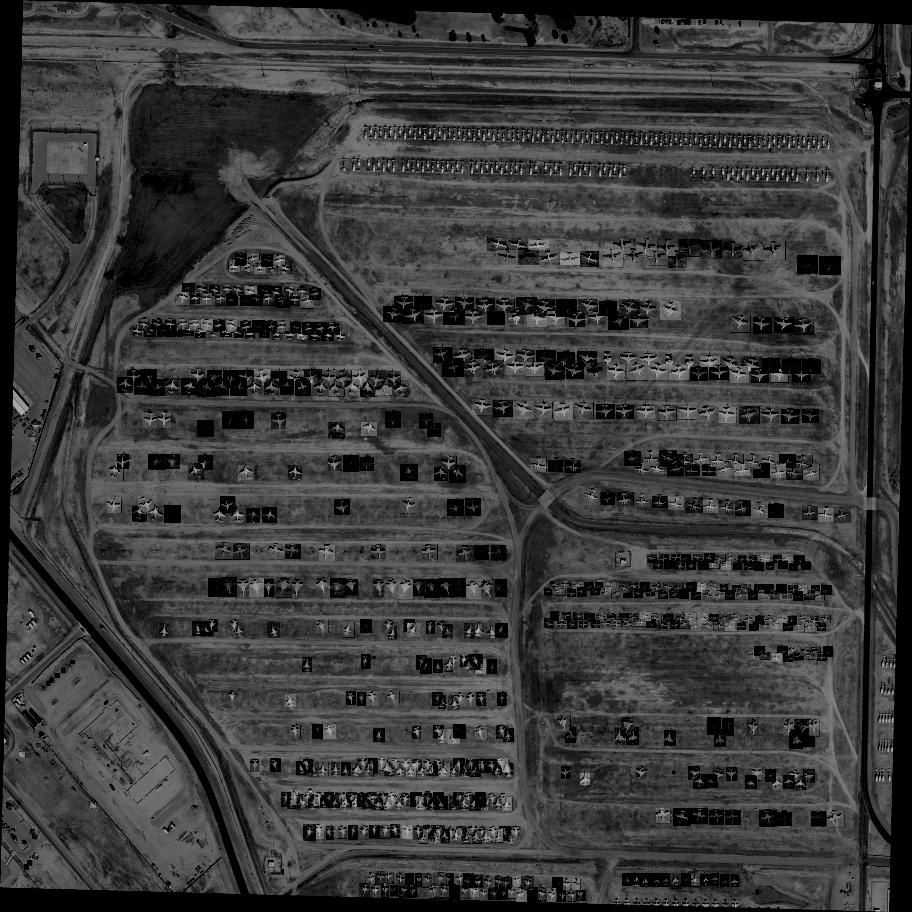plane: (743, 242, 766, 263), (619, 299, 642, 319), (700, 240, 723, 260), (721, 355, 743, 375), (443, 358, 465, 378), (820, 257, 842, 277), (679, 239, 701, 259), (603, 249, 625, 269), (608, 312, 631, 331), (765, 242, 788, 261), (546, 361, 567, 381), (484, 360, 505, 380), (403, 307, 425, 326), (556, 299, 578, 318), (741, 356, 763, 375), (628, 363, 650, 382), (660, 301, 682, 320), (636, 238, 658, 257), (516, 297, 538, 316), (303, 369, 323, 389), (453, 347, 474, 366), (732, 316, 753, 335), (555, 402, 576, 421), (443, 308, 465, 326), (577, 299, 599, 317), (586, 363, 608, 381), (797, 256, 819, 274), (368, 371, 387, 391), (335, 370, 354, 390), (383, 307, 404, 325), (577, 351, 598, 369), (536, 350, 557, 368), (527, 310, 548, 328), (463, 360, 484, 378), (723, 242, 744, 260), (739, 407, 760, 425), (513, 401, 534, 419), (575, 403, 596, 421), (698, 406, 719, 424), (360, 379, 379, 398), (254, 369, 273, 388), (140, 369, 159, 388), (295, 378, 314, 397), (197, 378, 216, 397), (163, 506, 182, 525), (731, 366, 751, 384), (479, 580, 496, 601), (438, 578, 455, 599), (276, 577, 293, 598), (221, 577, 238, 598), (474, 349, 495, 366), (669, 366, 690, 383), (648, 365, 669, 382), (487, 237, 508, 254), (773, 318, 794, 335), (472, 400, 493, 417), (539, 251, 561, 267), (518, 250, 540, 266), (328, 379, 346, 398), (352, 370, 370, 389), (221, 411, 240, 429), (456, 545, 475, 563), (465, 498, 483, 517), (139, 496, 157, 515), (107, 462, 125, 481), (189, 463, 207, 482), (215, 543, 234, 561), (673, 808, 691, 827), (827, 811, 846, 829), (690, 809, 709, 827), (208, 578, 225, 598), (495, 350, 515, 367), (434, 348, 454, 365), (536, 299, 556, 316), (493, 400, 513, 417), (534, 402, 554, 419), (508, 238, 529, 254), (794, 320, 815, 336), (614, 239, 635, 255), (580, 252, 601, 268), (497, 250, 518, 266), (376, 379, 394, 397), (393, 380, 411, 398), (400, 465, 418, 483), (328, 422, 346, 440), (149, 379, 167, 397), (213, 378, 231, 396), (230, 379, 248, 397), (448, 499, 466, 517), (334, 498, 352, 516), (759, 810, 777, 828), (583, 488, 601, 506), (312, 379, 329, 398), (449, 465, 466, 484), (221, 496, 238, 515), (567, 363, 586, 380), (753, 317, 772, 334), (685, 497, 704, 514), (466, 579, 482, 599), (398, 579, 414, 599), (330, 579, 346, 599), (317, 578, 333, 598), (789, 729, 805, 749), (796, 719, 812, 739), (435, 297, 455, 313), (625, 250, 645, 266), (223, 370, 240, 388), (343, 456, 361, 473), (238, 412, 255, 430), (165, 378, 182, 396), (182, 378, 199, 396), (267, 544, 285, 561), (232, 544, 250, 561), (608, 364, 626, 381), (667, 461, 685, 478), (659, 451, 677, 468), (752, 502, 770, 519), (804, 464, 822, 481), (779, 454, 797, 471), (394, 296, 413, 312), (477, 298, 496, 314), (781, 409, 800, 425), (802, 359, 821, 375), (597, 405, 616, 421), (425, 579, 440, 599), (249, 578, 264, 598), (455, 298, 475, 313), (701, 357, 721, 372), (657, 406, 677, 421), (385, 371, 402, 388), (288, 370, 305, 387), (198, 421, 215, 438), (400, 498, 417, 515), (318, 545, 336, 561), (600, 301, 618, 317), (640, 302, 658, 318), (659, 240, 677, 256), (720, 408, 738, 424), (834, 508, 852, 524), (795, 455, 813, 471), (761, 454, 779, 470), (516, 350, 535, 365), (496, 299, 515, 314), (782, 359, 801, 374), (639, 354, 659, 368), (530, 240, 550, 254), (272, 371, 288, 388), (207, 370, 223, 387), (441, 457, 458, 473), (386, 412, 402, 429), (361, 423, 378, 439), (247, 379, 263, 396), (117, 378, 134, 394), (262, 507, 278, 524), (213, 507, 229, 524), (149, 507, 165, 524), (148, 455, 165, 471), (725, 810, 742, 826), (534, 887, 550, 904), (719, 500, 736, 516), (735, 501, 752, 517), (753, 463, 770, 479), (745, 454, 762, 470), (493, 580, 508, 598), (669, 252, 687, 267), (718, 463, 736, 478), (708, 717, 722, 736), (626, 727, 640, 746), (621, 717, 635, 736), (557, 715, 571, 734), (710, 368, 729, 382), (792, 369, 811, 383), (647, 252, 667, 265), (561, 253, 581, 266), (238, 465, 254, 481), (423, 545, 439, 561), (132, 506, 148, 522), (107, 497, 123, 513), (811, 811, 827, 827), (322, 371, 337, 388), (264, 379, 279, 396), (135, 378, 150, 395), (266, 622, 281, 639), (752, 368, 769, 383), (694, 453, 711, 468), (727, 454, 744, 469), (617, 492, 634, 507), (668, 497, 685, 512), (412, 579, 426, 597), (386, 579, 399, 598), (345, 381, 361, 396), (143, 412, 158, 428), (230, 507, 245, 523), (165, 455, 181, 470), (769, 503, 785, 518), (770, 464, 786, 479), (303, 824, 317, 841), (240, 370, 254, 387), (202, 621, 216, 638), (388, 690, 402, 707), (408, 623, 422, 640), (548, 311, 565, 325), (802, 409, 819, 423), (763, 359, 780, 373), (625, 452, 642, 466), (531, 458, 548, 472), (345, 579, 358, 597), (714, 729, 727, 747), (557, 353, 575, 366), (425, 310, 443, 323), (588, 312, 606, 325), (526, 363, 544, 376), (506, 362, 524, 375), (690, 368, 708, 381), (637, 406, 655, 419), (276, 294, 291, 309), (705, 775, 720, 790), (272, 413, 286, 429), (343, 623, 357, 639), (323, 725, 337, 741), (496, 724, 510, 740), (790, 768, 804, 784), (713, 767, 727, 783), (693, 774, 707, 790), (457, 885, 471, 901), (466, 311, 482, 325), (569, 313, 585, 327), (631, 314, 647, 328), (677, 453, 693, 467), (650, 462, 666, 476), (617, 405, 633, 419), (802, 507, 818, 521), (819, 508, 835, 522), (787, 466, 803, 480), (470, 654, 483, 671), (496, 623, 509, 640), (664, 730, 677, 747), (620, 354, 637, 367), (762, 410, 779, 423), (487, 311, 504, 324), (565, 460, 582, 473), (454, 579, 466, 597), (237, 579, 249, 597), (723, 718, 735, 736), (288, 465, 302, 480), (127, 370, 141, 385), (170, 324, 184, 339), (198, 455, 212, 470), (316, 619, 330, 634), (312, 725, 326, 740), (285, 544, 300, 558), (777, 812, 792, 826), (505, 886, 519, 901), (424, 825, 437, 841), (504, 830, 517, 846), (454, 758, 467, 774), (395, 762, 408, 778), (367, 758, 380, 774), (486, 792, 499, 808), (389, 792, 402, 808), (454, 792, 467, 808), (351, 762, 364, 778), (475, 658, 488, 674), (382, 619, 395, 635), (296, 761, 309, 777), (448, 729, 461, 745), (475, 725, 488, 741), (521, 876, 534, 892), (415, 297, 431, 310), (772, 369, 788, 382), (634, 462, 650, 475), (429, 828, 441, 845), (373, 794, 385, 811), (803, 731, 815, 748), (680, 407, 697, 419), (373, 579, 384, 597), (748, 719, 759, 737), (360, 457, 374, 471), (270, 286, 284, 300), (245, 286, 259, 300), (182, 284, 196, 298), (314, 322, 328, 336), (302, 322, 316, 336), (252, 321, 266, 335), (176, 293, 190, 307), (328, 457, 342, 471), (492, 546, 506, 560), (433, 825, 446, 840), (497, 759, 510, 774), (432, 759, 445, 774), (383, 763, 396, 778), (411, 793, 424, 808), (464, 793, 477, 808), (192, 369, 205, 384), (420, 413, 433, 428), (229, 619, 242, 634), (371, 546, 386, 559), (709, 811, 724, 824), (803, 768, 816, 783), (688, 767, 701, 782), (526, 888, 539, 903), (448, 886, 461, 901), (434, 873, 447, 888), (635, 494, 650, 507), (652, 496, 667, 509), (297, 794, 309, 810), (499, 826, 511, 842), (476, 759, 488, 775), (476, 792, 488, 808), (159, 412, 171, 428), (421, 658, 433, 674), (309, 761, 321, 777), (809, 721, 821, 737), (670, 873, 682, 889), (711, 455, 727, 467), (157, 324, 170, 338), (281, 380, 294, 394), (435, 467, 448, 481), (427, 423, 441, 436), (301, 295, 314, 309), (195, 284, 208, 298), (254, 260, 267, 274), (261, 253, 274, 267), (139, 318, 152, 332), (226, 320, 240, 333), (213, 320, 227, 333), (201, 320, 215, 333), (246, 509, 260, 522), (657, 809, 670, 823), (516, 888, 529, 902), (437, 886, 450, 900), (601, 492, 615, 505), (456, 827, 468, 842), (390, 825, 402, 840), (358, 826, 370, 841), (292, 792, 304, 807), (488, 827, 500, 842), (422, 759, 434, 774), (362, 763, 374, 778), (346, 792, 358, 807), (362, 795, 374, 810), (470, 796, 482, 811), (486, 659, 498, 674), (416, 655, 428, 670), (226, 690, 238, 705), (360, 619, 372, 634), (367, 692, 379, 707), (270, 759, 282, 774), (373, 728, 385, 743), (438, 729, 450, 744), (454, 725, 466, 740), (454, 692, 466, 707), (448, 696, 460, 711), (442, 624, 454, 639), (746, 775, 758, 790), (726, 767, 738, 782), (359, 883, 371, 898), (552, 877, 564, 892), (690, 873, 702, 888), (641, 873, 653, 888), (423, 873, 435, 888), (463, 874, 475, 889), (643, 453, 658, 465), (464, 623, 475, 639), (565, 727, 576, 743), (547, 888, 558, 904), (292, 580, 302, 597), (615, 728, 625, 745), (280, 261, 293, 274), (274, 255, 287, 268), (248, 254, 261, 267), (235, 253, 248, 266), (321, 329, 334, 342), (177, 319, 190, 332), (475, 546, 488, 559), (497, 888, 510, 901), (492, 762, 504, 776), (487, 760, 499, 774), (470, 763, 482, 777), (449, 763, 461, 777), (427, 763, 439, 777), (330, 796, 342, 810), (460, 796, 472, 810), (242, 259, 254, 273), (267, 260, 279, 274), (192, 622, 204, 636), (117, 455, 129, 469), (636, 767, 648, 781), (399, 885, 411, 899), (488, 887, 500, 901), (477, 887, 489, 901), (736, 464, 750, 476), (704, 501, 718, 513), (413, 826, 424, 841), (348, 825, 359, 840), (315, 825, 326, 840), (281, 792, 292, 807), (303, 792, 314, 807), (357, 793, 368, 808), (395, 796, 406, 811), (427, 796, 438, 811), (438, 796, 449, 811), (449, 796, 460, 811), (357, 758, 368, 773), (504, 728, 515, 743), (375, 871, 386, 886), (265, 579, 274, 597), (309, 796, 321, 809), (220, 326, 232, 339), (309, 288, 321, 301), (284, 286, 296, 299), (259, 286, 271, 299), (229, 260, 241, 273), (145, 325, 157, 338), (271, 328, 283, 341), (309, 329, 321, 342), (189, 320, 202, 332), (697, 613, 710, 625), (685, 613, 698, 625), (686, 464, 699, 476), (503, 797, 514, 811), (439, 764, 450, 778), (401, 760, 412, 774), (433, 793, 444, 807), (465, 659, 476, 673), (291, 726, 302, 740), (433, 725, 444, 739), (433, 692, 444, 706), (437, 621, 448, 635), (473, 875, 484, 889), (785, 719, 794, 736), (381, 825, 391, 840), (402, 825, 412, 840), (368, 793, 378, 808), (302, 657, 312, 672), (303, 759, 313, 774), (498, 692, 508, 707), (476, 692, 486, 707), (465, 692, 475, 707), (661, 873, 671, 888), (264, 295, 276, 307), (277, 321, 289, 333), (227, 294, 239, 306), (782, 554, 794, 566), (369, 826, 380, 839), (466, 759, 477, 772), (482, 797, 493, 810), (246, 327, 257, 340), (286, 695, 297, 708), (404, 620, 415, 633), (784, 776, 795, 789), (765, 769, 776, 782), (428, 886, 439, 899), (702, 465, 715, 476), (549, 461, 562, 472), (419, 829, 429, 843), (511, 827, 521, 841), (325, 793, 335, 807), (412, 759, 422, 773), (407, 763, 417, 777), (433, 660, 443, 674), (346, 692, 356, 706), (797, 776, 807, 790), (772, 776, 782, 790), (396, 873, 406, 887), (681, 873, 691, 887), (651, 874, 661, 888), (622, 873, 632, 887), (444, 873, 454, 887), (342, 762, 351, 777), (460, 765, 471, 777), (183, 325, 195, 336), (234, 286, 245, 298), (209, 285, 220, 297), (252, 295, 263, 307), (284, 328, 295, 340), (334, 330, 346, 341), (754, 646, 766, 657), (606, 582, 618, 593), (715, 621, 727, 632), (703, 621, 715, 632), (467, 887, 479, 898), (618, 582, 630, 593), (698, 560, 710, 571), (686, 560, 698, 571), (793, 591, 805, 602), (708, 583, 720, 594), (764, 584, 776, 595), (451, 829, 461, 842), (445, 827, 455, 840), (314, 794, 324, 807), (159, 623, 169, 636), (731, 874, 741, 887), (720, 875, 730, 888), (441, 829, 450, 843), (362, 655, 371, 669), (208, 326, 219, 337), (265, 321, 276, 332), (240, 321, 251, 332), (240, 295, 251, 306), (823, 647, 834, 658), (596, 612, 607, 623), (545, 618, 556, 629), (612, 588, 623, 599), (634, 588, 645, 599), (754, 561, 765, 572), (816, 591, 827, 602), (795, 555, 806, 566), (641, 582, 652, 593), (680, 589, 691, 600), (338, 827, 348, 839), (221, 286, 233, 296), (651, 613, 663, 623), (646, 620, 658, 630), (640, 613, 652, 623), (557, 891, 567, 903), (701, 874, 711, 886), (804, 591, 816, 601), (715, 554, 727, 564), (703, 554, 715, 564), (663, 583, 675, 593), (776, 585, 788, 595), (675, 561, 687, 571), (664, 560, 676, 570), (462, 830, 471, 843), (287, 796, 296, 809), (391, 759, 400, 772), (449, 656, 458, 669), (250, 759, 259, 772), (412, 726, 421, 739), (426, 621, 435, 634), (487, 625, 496, 638), (561, 766, 570, 779), (389, 626, 397, 640), (358, 692, 366, 706), (320, 762, 328, 776), (259, 328, 270, 338), (290, 295, 300, 306), (290, 323, 301, 333), (165, 320, 176, 330), (190, 293, 200, 304), (215, 294, 225, 305), (805, 622, 816, 632), (580, 774, 590, 785), (619, 613, 630, 623), (567, 619, 578, 629), (743, 615, 754, 625), (726, 621, 737, 631), (720, 614, 731, 624), (692, 621, 703, 631), (675, 614, 686, 624), (821, 585, 832, 595), (721, 561, 732, 571), (788, 585, 799, 595), (669, 590, 680, 600), (686, 583, 697, 593), (691, 590, 702, 600), (714, 590, 725, 600), (748, 591, 759, 601), (754, 585, 765, 595), (647, 554, 658, 564), (494, 830, 503, 842), (196, 326, 205, 338), (331, 763, 340, 775), (444, 659, 453, 671), (484, 876, 493, 888), (473, 830, 481, 843), (479, 827, 487, 840), (498, 794, 506, 807), (494, 797, 502, 810), (384, 796, 392, 809), (417, 797, 425, 810), (424, 793, 432, 806), (572, 878, 580, 891), (297, 329, 307, 339), (778, 646, 788, 656), (822, 615, 832, 625), (788, 615, 798, 625), (585, 613, 595, 623), (550, 612, 560, 622), (584, 582, 594, 592), (602, 589, 612, 599), (766, 615, 776, 625), (710, 560, 720, 570), (658, 589, 668, 599), (726, 590, 736, 600), (737, 591, 747, 601), (659, 554, 669, 564), (468, 827, 477, 838), (336, 793, 345, 804), (342, 796, 351, 807), (352, 796, 361, 807), (235, 327, 244, 338), (203, 294, 212, 305), (783, 654, 794, 663), (800, 647, 811, 656), (810, 647, 821, 656), (753, 769, 762, 780), (783, 623, 794, 632), (550, 582, 561, 591), (555, 588, 566, 597), (366, 873, 375, 884), (577, 890, 586, 901), (632, 874, 641, 885), (801, 562, 812, 571), (681, 555, 692, 564), (653, 561, 664, 570), (416, 873, 423, 887), (321, 796, 329, 808), (505, 763, 513, 775), (461, 655, 469, 667), (381, 886, 389, 898), (711, 873, 719, 885), (495, 876, 503, 888), (484, 830, 491, 843), (237, 623, 244, 636), (417, 764, 426, 774), (379, 794, 388, 804), (297, 288, 307, 297), (153, 320, 162, 330), (328, 324, 338, 333), (574, 612, 584, 621), (568, 588, 577, 598), (772, 622, 782, 631), (709, 614, 719, 623), (454, 875, 463, 885), (697, 584, 707, 593), (703, 590, 713, 599), (771, 591, 781, 600), (379, 759, 387, 770), (794, 653, 805, 661), (406, 874, 414, 885), (390, 885, 398, 896), (386, 872, 394, 883), (563, 879, 571, 890), (568, 890, 576, 901), (134, 325, 142, 336), (327, 826, 333, 840), (402, 794, 409, 806), (210, 620, 217, 632), (475, 625, 482, 637), (410, 886, 417, 898), (504, 877, 511, 889), (773, 653, 782, 662), (659, 621, 668, 630), (623, 588, 632, 597), (790, 562, 799, 571), (744, 561, 753, 570), (742, 585, 751, 594), (602, 619, 610, 629), (777, 616, 787, 624), (811, 586, 821, 594), (439, 695, 445, 708), (749, 652, 758, 660), (812, 616, 820, 625), (607, 614, 616, 622), (591, 620, 600, 628), (579, 620, 588, 628), (578, 587, 586, 596), (761, 622, 770, 630), (755, 616, 764, 624), (750, 622, 759, 630), (731, 615, 740, 623), (671, 621, 680, 629), (779, 561, 788, 569), (733, 562, 742, 570), (800, 585, 808, 594), (817, 654, 827, 661), (514, 877, 521, 887), (595, 582, 603, 590), (629, 614, 637, 622), (630, 582, 638, 590), (727, 555, 735, 563), (675, 584, 683, 592), (794, 622, 803, 629), (574, 582, 583, 589), (680, 621, 689, 628), (664, 615, 673, 622), (773, 556, 782, 563), (761, 555, 770, 562), (783, 591, 792, 598), (652, 584, 661, 591), (732, 585, 741, 592), (636, 620, 646, 626), (789, 647, 797, 654), (818, 624, 826, 631), (799, 617, 807, 624), (563, 613, 571, 620), (558, 620, 565, 628), (562, 582, 570, 589), (614, 620, 621, 628), (738, 623, 746, 630), (766, 563, 774, 570), (749, 555, 756, 563), (738, 556, 746, 563), (647, 589, 655, 596), (720, 585, 728, 592), (760, 591, 768, 598), (591, 589, 600, 595), (671, 555, 680, 561), (545, 588, 552, 595), (625, 621, 632, 628), (761, 653, 769, 659), (807, 653, 815, 659), (694, 555, 702, 561)
small-vehicle: (31, 854, 37, 861), (90, 803, 96, 810), (166, 881, 172, 888), (32, 833, 38, 840), (29, 345, 35, 351), (27, 860, 33, 866), (19, 753, 25, 759), (25, 864, 30, 871), (70, 660, 75, 666), (63, 666, 68, 672), (55, 674, 61, 679), (41, 686, 46, 692), (42, 736, 48, 741), (36, 743, 41, 749), (8, 804, 13, 810), (34, 857, 39, 862), (158, 873, 163, 878), (31, 830, 36, 835), (66, 664, 71, 669), (61, 669, 66, 674), (2, 823, 7, 828), (6, 827, 11, 832), (12, 835, 17, 840), (758, 22, 762, 28), (872, 279, 875, 286), (47, 682, 51, 687), (39, 731, 43, 736), (10, 833, 14, 838), (13, 837, 17, 841), (51, 677, 55, 681), (49, 679, 53, 683), (686, 20, 689, 25), (40, 732, 43, 737), (49, 746, 54, 749), (668, 20, 671, 24), (872, 73, 874, 78), (678, 20, 680, 25), (38, 356, 41, 359), (704, 20, 706, 24), (37, 353, 39, 357), (666, 20, 668, 24), (661, 20, 663, 24), (32, 348, 34, 351), (721, 21, 723, 24), (699, 21, 701, 24), (684, 19, 686, 22), (681, 20, 684, 22), (23, 841, 25, 844), (7, 804, 9, 807), (11, 830, 14, 832), (240, 43, 242, 45), (352, 49, 356, 50), (380, 49, 382, 51), (739, 22, 741, 24), (689, 19, 690, 23), (671, 20, 673, 22), (659, 20, 661, 22), (21, 705, 24, 706), (654, 20, 655, 23), (282, 870, 283, 872), (370, 45, 372, 46), (716, 20, 716, 21), (664, 19, 664, 23)
